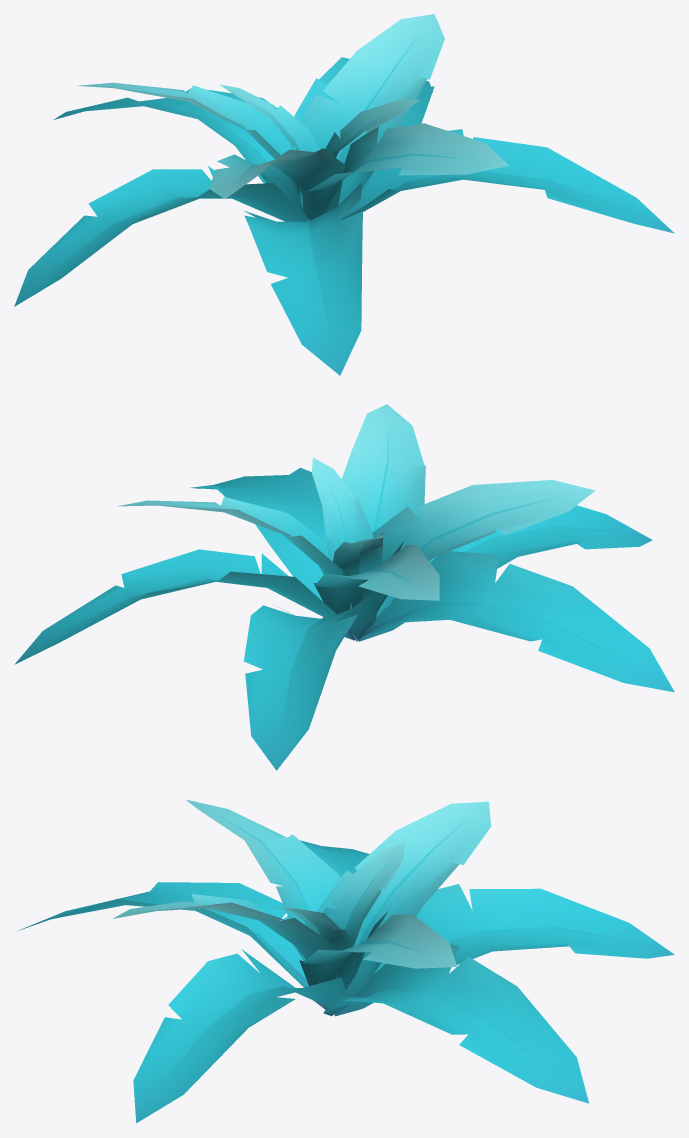
The model's file is prop_environment_plant02_2.fbx.
3 views of the same model, one above another, from view 1: azimuth 30°, elevation 25°; view 2: azimuth 150°, elevation 25°; view 3: azimuth 270°, elevation 25° (orthographic).
Parts seen in each view (by area): view 1: prop_environment_plant02_2; view 2: prop_environment_plant02_2; view 3: prop_environment_plant02_2.
Boxes of the visible parts, <box> form: prop_environment_plant02_2: <box>14,14,674,375</box>; prop_environment_plant02_2: <box>14,404,674,770</box>; prop_environment_plant02_2: <box>16,799,674,1123</box>.
Size of the model in its own units: 874 by 212 by 885.
1 material, 1 textured.
